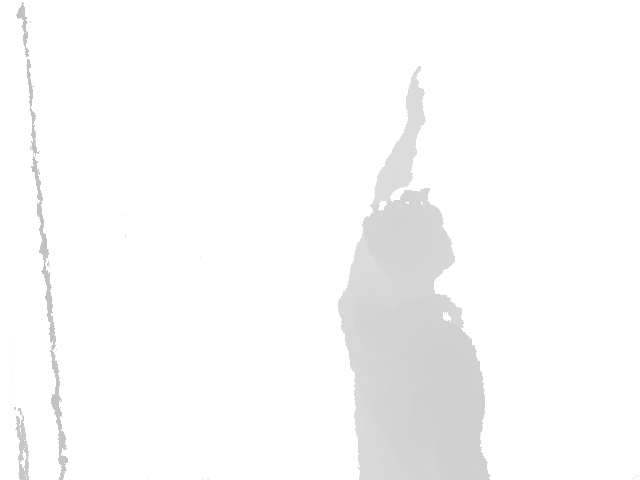hand: (405, 65, 426, 126)
head: (362, 188, 456, 283)
person: (337, 65, 493, 480)
